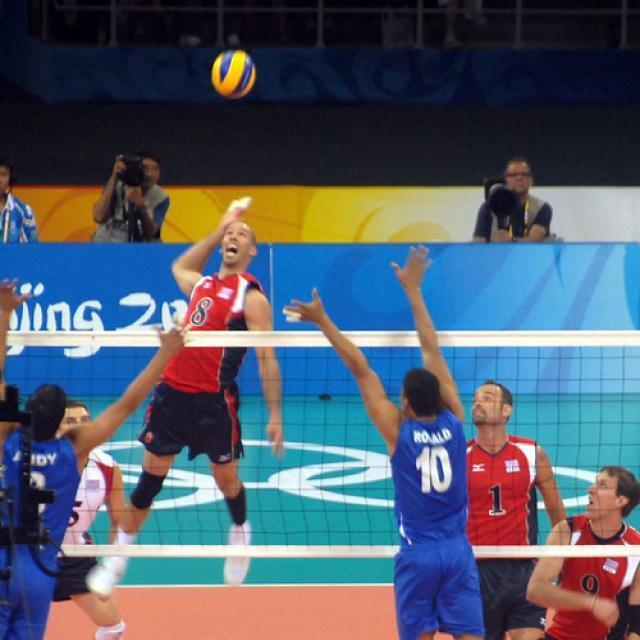volleyball: (212, 51, 256, 99)
